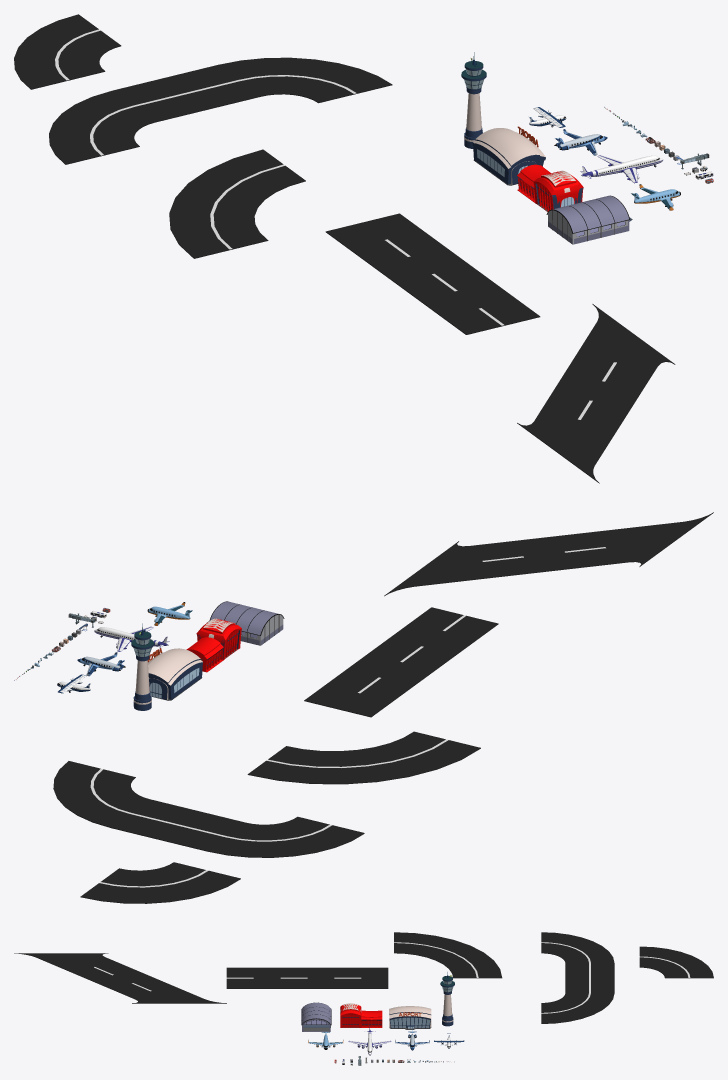
File: Airport_PackTotal.fbx
3 renders of one model, top to bottom at view 1: azimuth 30°, elevation 25°; view 2: azimuth 150°, elevation 25°; view 3: azimuth 270°, elevation 25°, orthographic. The views are drawn at different scales.
Visible parts, largest first — view 1: LandingTrack2Curve, LandingTrack5StraightAngled, LandingTrack1Straight, LandingTrack3Curve2, LandingTrack4Curve3, 04.Hangar, 07.Modulo1, Cube.045, 02.ControlTower, 18.2.Airplane; view 2: LandingTrack2Curve, LandingTrack5StraightAngled, LandingTrack1Straight, LandingTrack3Curve2, LandingTrack4Curve3, 07.Modulo1, 04.Hangar, Cube.045, 02.ControlTower, 18.2.Airplane; view 3: LandingTrack2Curve, LandingTrack5StraightAngled, LandingTrack1Straight, LandingTrack3Curve2, LandingTrack4Curve3, 07.Modulo1, 04.Hangar, Cube.045, 02.ControlTower, 18.2.Airplane.
Part boxes in pixels (x1,y1,x2,y2): LandingTrack2Curve: [49, 57, 392, 164]; LandingTrack5StraightAngled: [517, 304, 675, 483]; LandingTrack1Straight: [325, 213, 540, 334]; LandingTrack3Curve2: [169, 149, 305, 258]; LandingTrack4Curve3: [14, 14, 121, 89]; 04.Hangar: [546, 195, 632, 244]; 07.Modulo1: [472, 126, 545, 185]; Cube.045: [517, 164, 583, 211]; 02.ControlTower: [461, 52, 486, 148]; 18.2.Airplane: [580, 155, 662, 183]; LandingTrack2Curve: [53, 761, 364, 857]; LandingTrack5StraightAngled: [384, 512, 713, 596]; LandingTrack1Straight: [304, 607, 498, 717]; LandingTrack3Curve2: [247, 731, 480, 784]; LandingTrack4Curve3: [80, 862, 240, 903]; 07.Modulo1: [147, 648, 202, 700]; 04.Hangar: [207, 601, 284, 645]; Cube.045: [186, 619, 241, 672]; 02.ControlTower: [131, 623, 154, 710]; 18.2.Airplane: [94, 626, 169, 651]; LandingTrack2Curve: [541, 932, 614, 1023]; LandingTrack5StraightAngled: [14, 953, 226, 1003]; LandingTrack1Straight: [226, 967, 388, 988]; LandingTrack3Curve2: [394, 932, 502, 978]; LandingTrack4Curve3: [639, 946, 713, 978]; 07.Modulo1: [389, 1006, 431, 1029]; 04.Hangar: [301, 1002, 331, 1031]; Cube.045: [340, 1004, 382, 1027]; 02.ControlTower: [440, 972, 454, 1026]; 18.2.Airplane: [348, 1026, 391, 1055].
Size of what is drawn, in the model's own units: 53517 by 10107 by 116756.
Materials: 2 (1 with a texture image).
